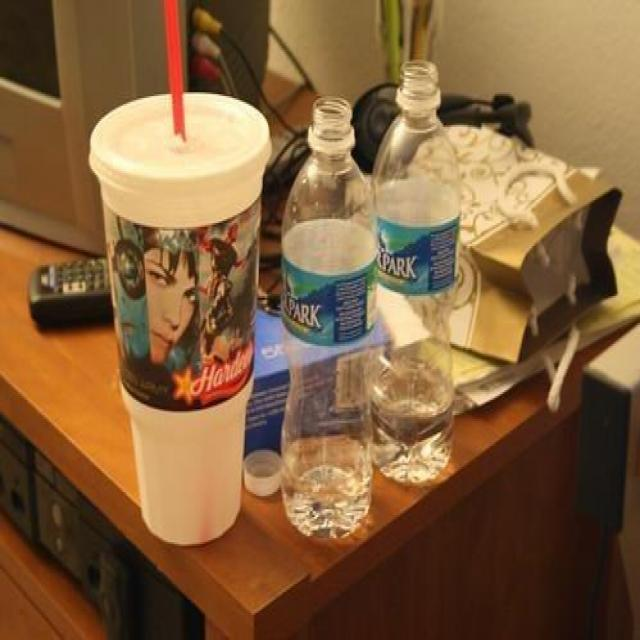bottle-plastic: (278, 90, 374, 542), (372, 58, 463, 484)
cup-disposable: (87, 90, 273, 546)
